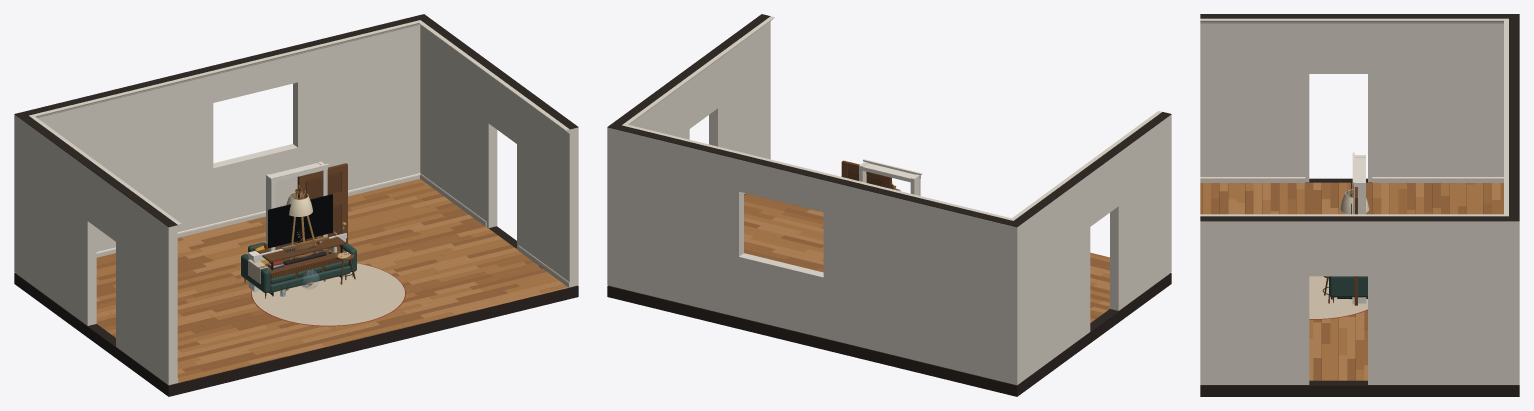
File: room.glb
3 renders of one model, left to right at view 1: azimuth 30°, elevation 25°; view 2: azimuth 150°, elevation 25°; view 3: azimuth 270°, elevation 25°, orthographic. The views are drawn at different scales.
Visible parts, largest first — view 1: Room Walls, Room Floor A, Room Floor C, Room Floor D, Room Slab 6, Room Rug, Room Floor B, Room Crown 2, Room Cap 3, TV Screen, Sofa Back 6, DoorFrame Cap 1 (+4 smaller); view 2: Room Walls, Room Slab 6, Room Cap 3, Room Crown 2, Room Floor A, Room Floor C, Room Floor D, Room Floor B, DoorFrame Cap 1; view 3: Room Walls, Room Cap 3, Room Crown 2, Room Floor A, Room Slab 6, Room Floor D, Room Floor C, Room Floor B, Room Rug, Sofa Back 6, DoorFrame Cap 1, Lamp Shade.
Part boxes in pixels (x1,y1,x2,y2): Room Walls: (14,25,578,385); Room Floor A: (96,179,567,381); Room Floor C: (96,196,568,373); Room Floor D: (96,193,546,371); Room Slab 6: (14,226,578,396); Room Rug: (252,263,404,325); Room Floor B: (96,182,541,382); Room Crown 2: (29,20,569,382); Room Cap 3: (14,14,578,227); TV Screen: (268,194,332,247); Sofa Back 6: (241,242,356,293); DoorFrame Cap 1: (266,161,329,262); Room Walls: (607,21,1171,385); Room Slab 6: (607,273,1171,396); Room Cap 3: (607,14,1171,227); Room Crown 2: (622,16,1161,220); Room Floor A: (744,201,1109,322); Room Floor C: (744,209,1109,312); Room Floor D: (744,193,1109,319); Room Floor B: (744,194,1109,322); DoorFrame Cap 1: (859,159,922,195); Room Walls: (1200,23,1519,384); Room Cap 3: (1200,14,1519,221); Room Crown 2: (1200,18,1508,216); Room Floor A: (1202,182,1483,380); Room Slab 6: (1200,178,1519,396); Room Floor D: (1200,182,1491,380); Room Floor C: (1219,182,1500,380); Room Floor B: (1200,182,1503,369); Room Rug: (1309,276,1367,318); Sofa Back 6: (1329,276,1367,297); DoorFrame Cap 1: (1352,152,1365,214); Lamp Shade: (1340,190,1368,214).
Bounding box in the file's own units: 9.2 × 4.29 × 6.
